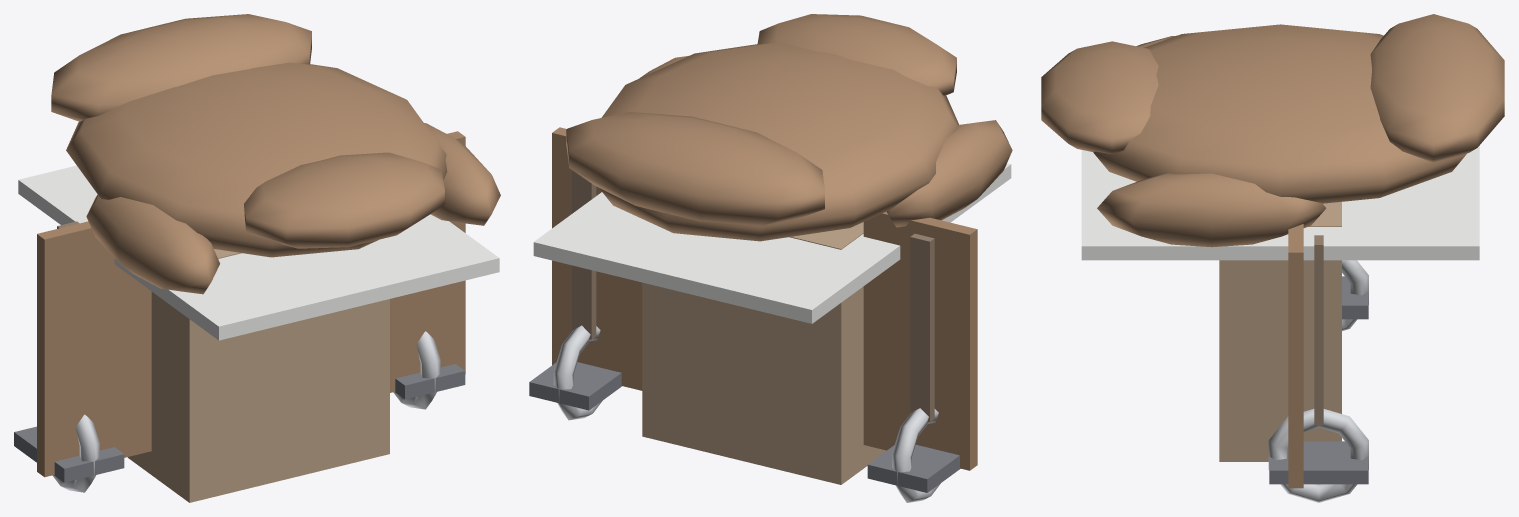
Rendered from saddle.glb.
3 renders of one model, left to right at view 1: azimuth 30°, elevation 25°; view 2: azimuth 150°, elevation 25°; view 3: azimuth 270°, elevation 25°, orthographic.
Parts seen in each view (by area): view 1: saddle; view 2: saddle; view 3: saddle.
Part boxes in pixels (<box>): saddle: <box>14,14,500,502</box>; saddle: <box>529,14,1012,502</box>; saddle: <box>1041,14,1504,502</box>.
Size of the model in its own units: 0.63 by 0.534 by 0.6055.
